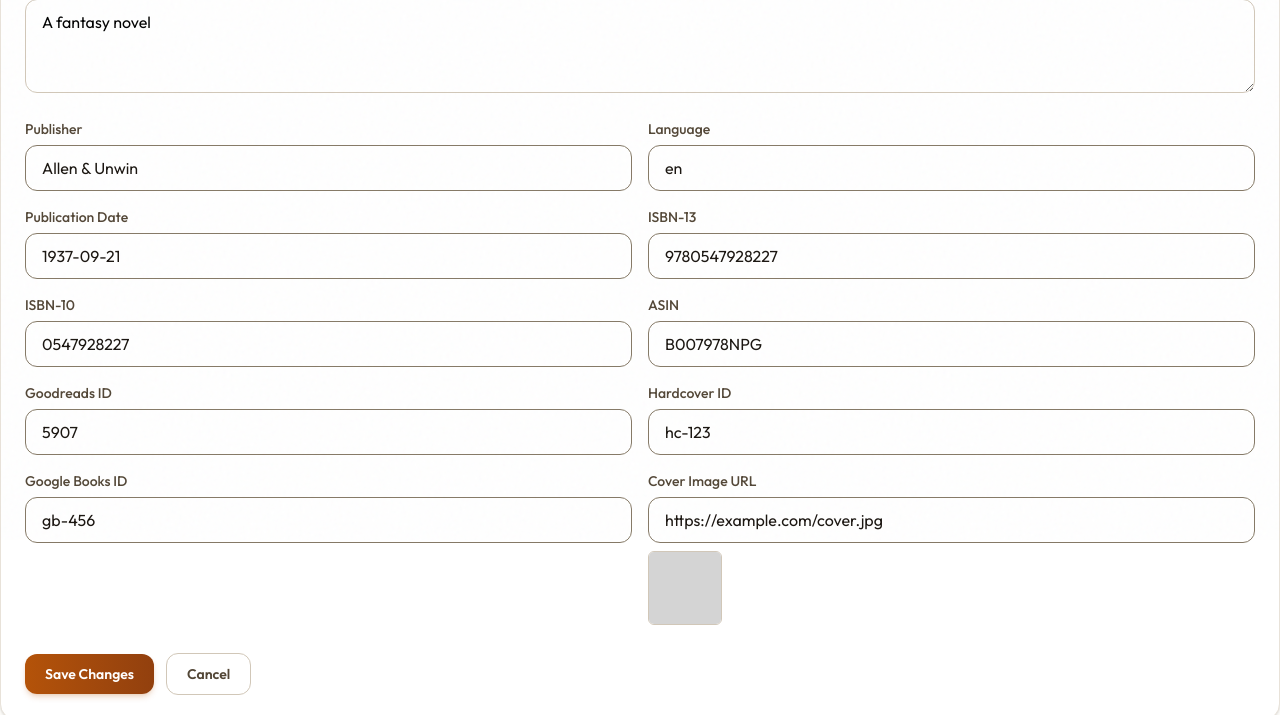
Test: BookEditForm › displays the formError AlertBanner when title is blank and form is submitted
The image size is (1280, 715).
(page scrolled)
Click the button "Save Changes" at (90, 674), box x1=25 y1=654 x2=154 y2=694
(page scrolled)
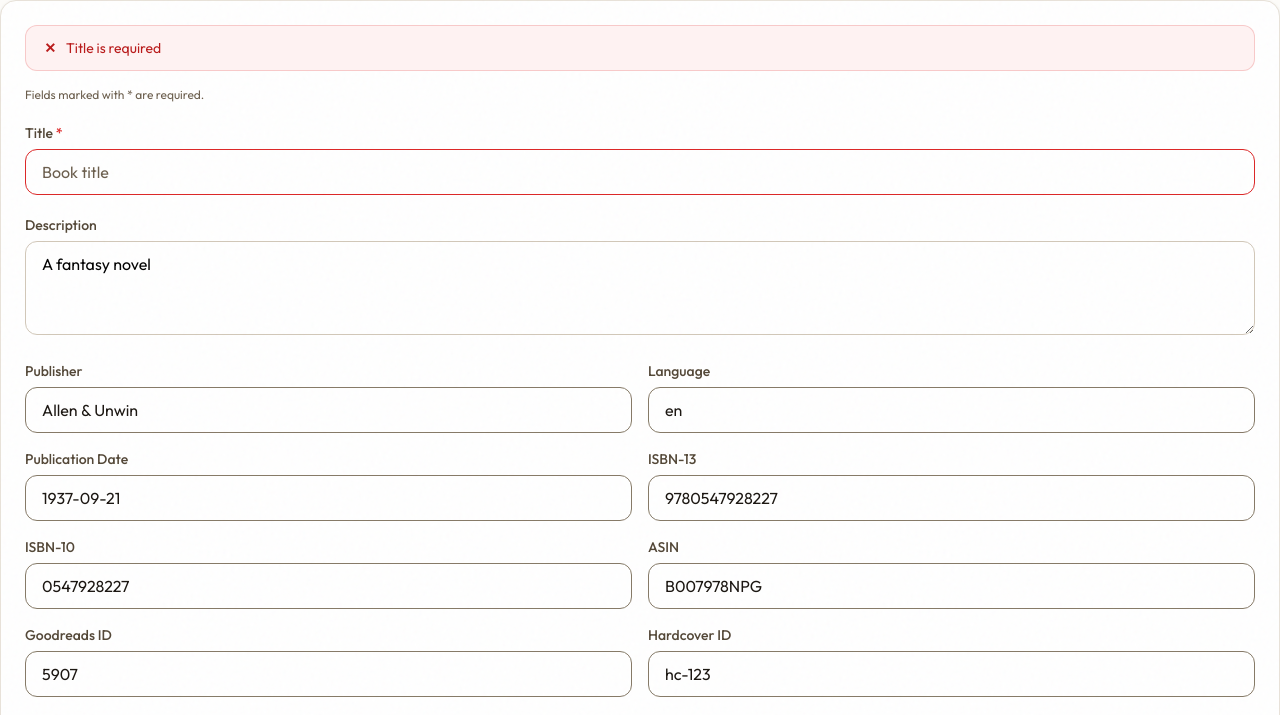
expect the text "Title is required" is shown: met, box x1=66 y1=39 x2=161 y2=57
